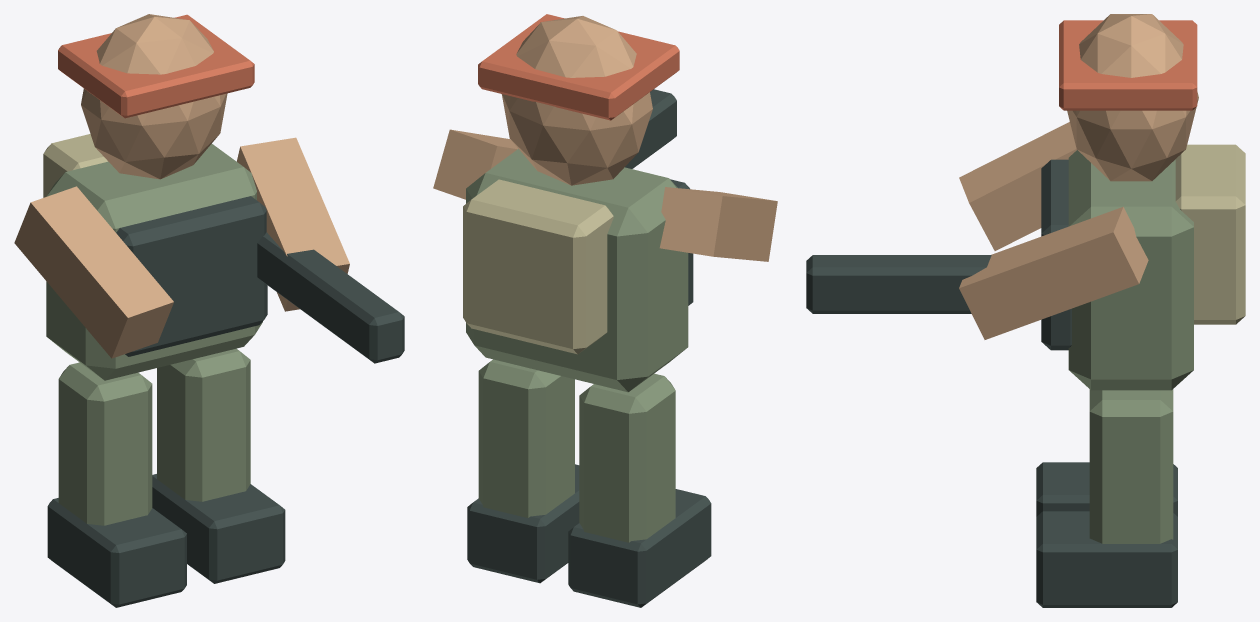
File: commando.glb
The picture shows the model from 3 angles, left to right: view 1: azimuth 30°, elevation 25°; view 2: azimuth 150°, elevation 25°; view 3: azimuth 270°, elevation 25°; orthographic projection. The views are drawn at different scales.
Parts seen in each view (by area): view 1: Vest, Arm, Torso, Leg, Head, Leg.001, Boot, Boot.001, Rifle, Headband, Arm.001, Pack; view 2: Pack, Torso, Leg, Head, Leg.001, Boot, Headband, Arm, Boot.001, Arm.001, Rifle; view 3: Torso, Arm.001, Leg.001, Head, Boot.001, Pack, Rifle, Headband, Arm, Vest, Boot.
Part boxes in pixels (x1,y1,x2,y2): Vest: (116, 196, 267, 356); Arm: (14, 186, 173, 358); Torso: (46, 143, 262, 380); Leg: (58, 362, 152, 525); Head: (81, 14, 227, 179); Leg.001: (157, 348, 250, 501); Boot: (47, 498, 186, 607); Boot.001: (152, 474, 285, 583); Rifle: (257, 232, 404, 363); Headband: (58, 14, 254, 118); Arm.001: (237, 137, 349, 311); Pack: (43, 134, 107, 197); Pack: (463, 179, 613, 354); Torso: (466, 149, 688, 392); Leg: (579, 373, 675, 542); Head: (501, 16, 652, 185); Leg.001: (478, 359, 574, 517); Boot: (568, 489, 711, 607); Headband: (478, 14, 679, 120); Arm: (659, 187, 777, 261); Boot.001: (467, 464, 579, 583); Arm.001: (433, 129, 518, 199); Rifle: (625, 89, 676, 168); Torso: (1068, 150, 1193, 390); Arm.001: (959, 206, 1148, 339); Leg.001: (1089, 389, 1173, 543); Head: (1067, 14, 1198, 181); Boot.001: (1036, 511, 1177, 607); Pack: (1175, 144, 1245, 324); Rifle: (806, 255, 991, 313); Headband: (1059, 20, 1197, 110); Arm: (959, 122, 1076, 250); Vest: (1041, 159, 1071, 350); Boot: (1036, 462, 1177, 516).
Bounding box in the file's own units: 1 × 1.89 × 1.37.
